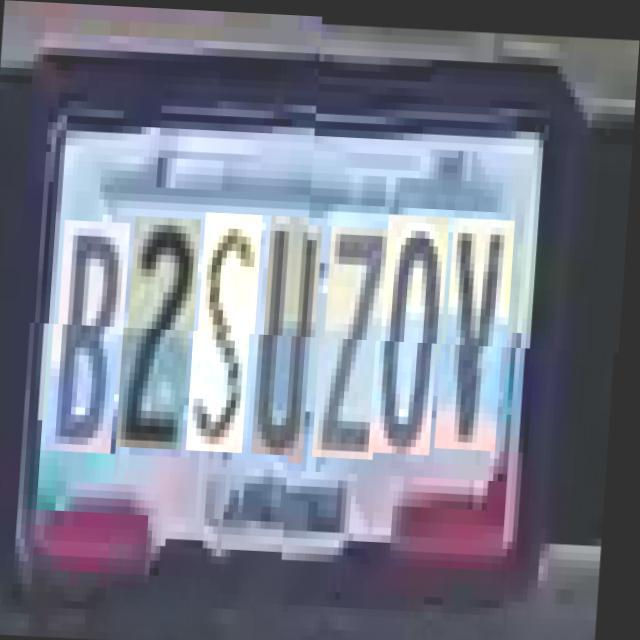2: (125, 222, 203, 455)
B: (55, 226, 134, 459)
O: (379, 210, 452, 450)
S: (197, 218, 264, 458)
U: (262, 220, 326, 460)
V: (445, 213, 518, 446)
Z: (322, 222, 396, 456)
